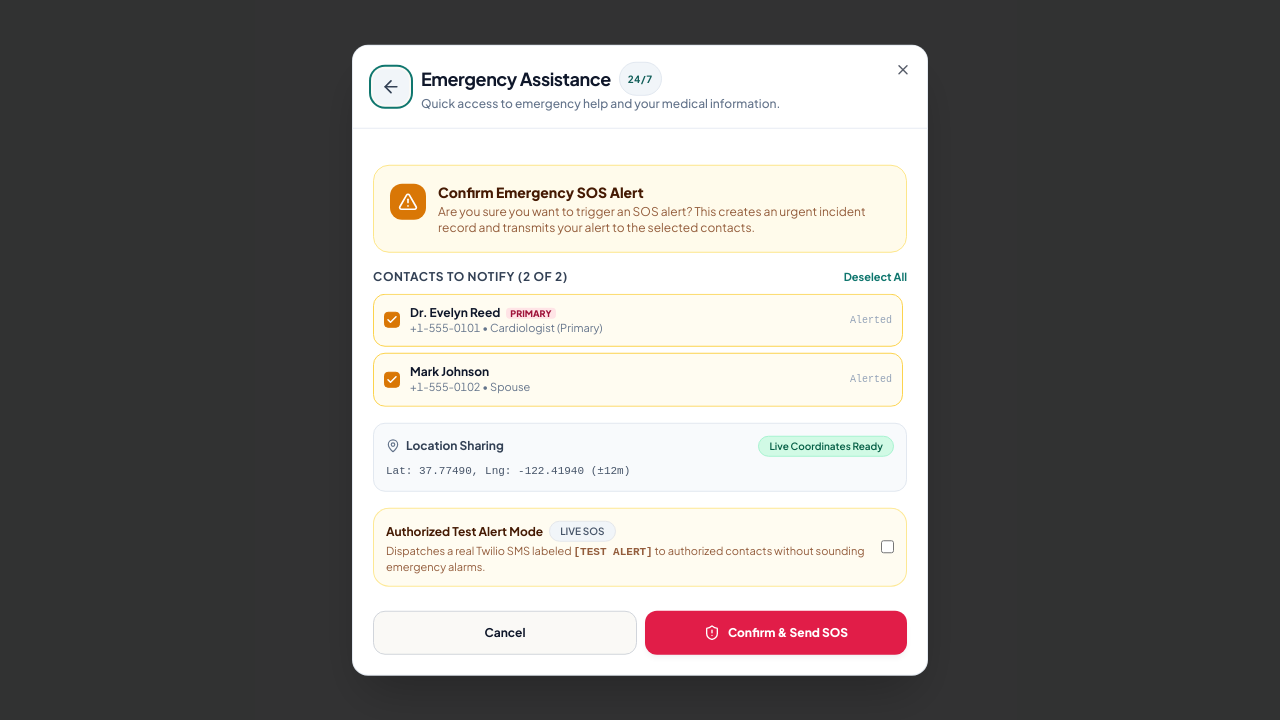
Test: EmergencyModal — Global SOS Dialog & Safety Workflows › SOS transmits in Authorized Test Alert mode when test toggle is activated
Expected: the heading "Confirm Emergency SOS Alert" is shown, [438,183,644,201]
Note: Toggle test mode
Click the checkbox labelled "Authorized Test Alert Mode" at (887, 547), box [881,539,894,555]
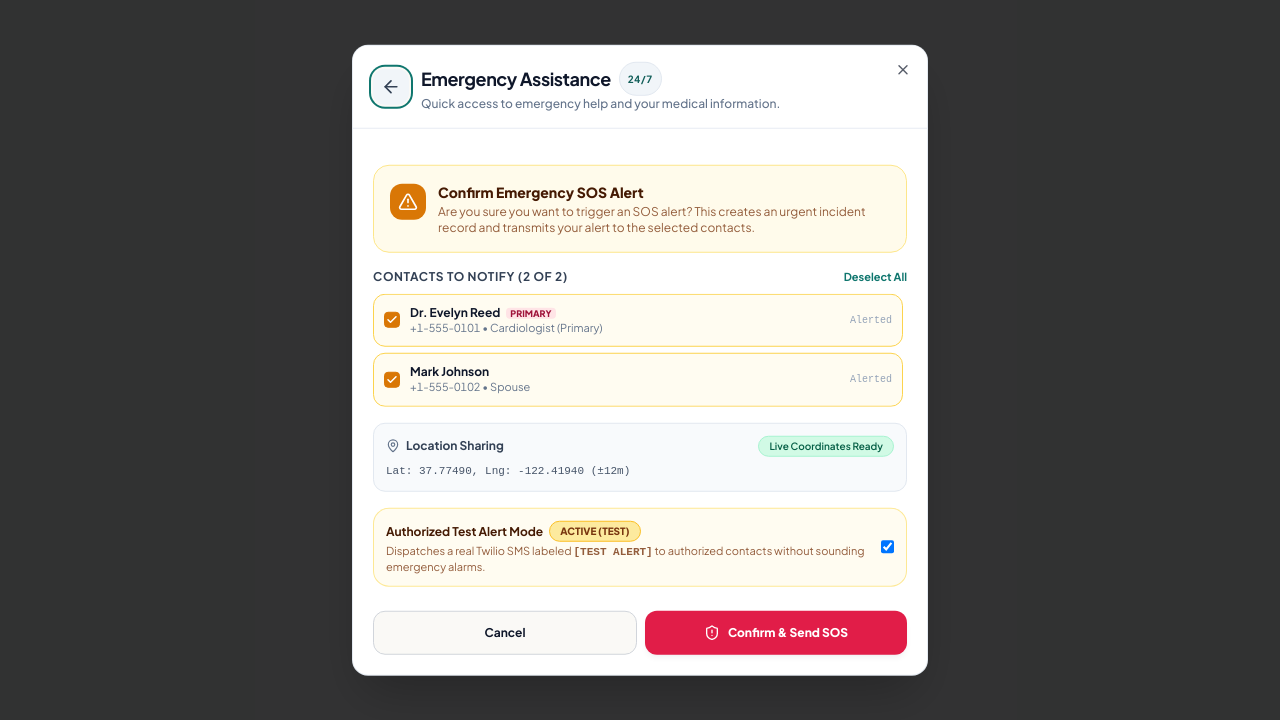
Click the button "Confirm & Send SOS" at (776, 632), box [645,610,907,654]
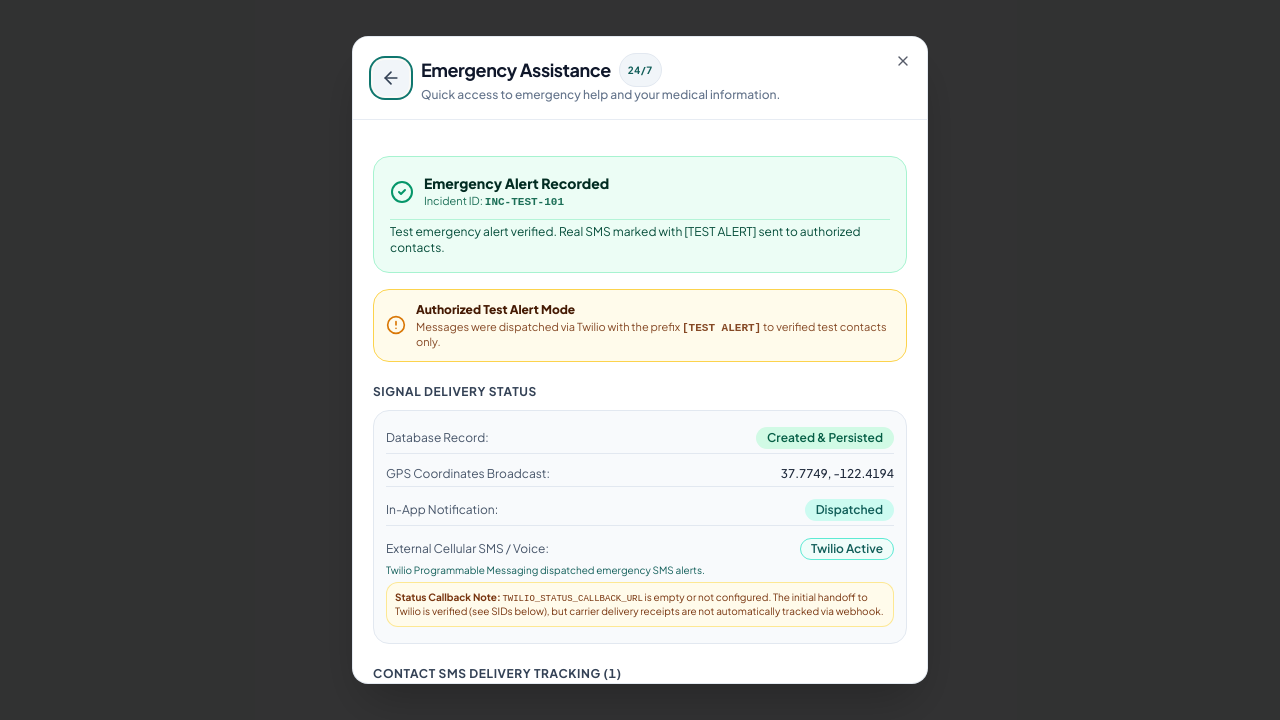
Expected: the text "[TEST ALERT]" is shown, [390,224,861,254]
